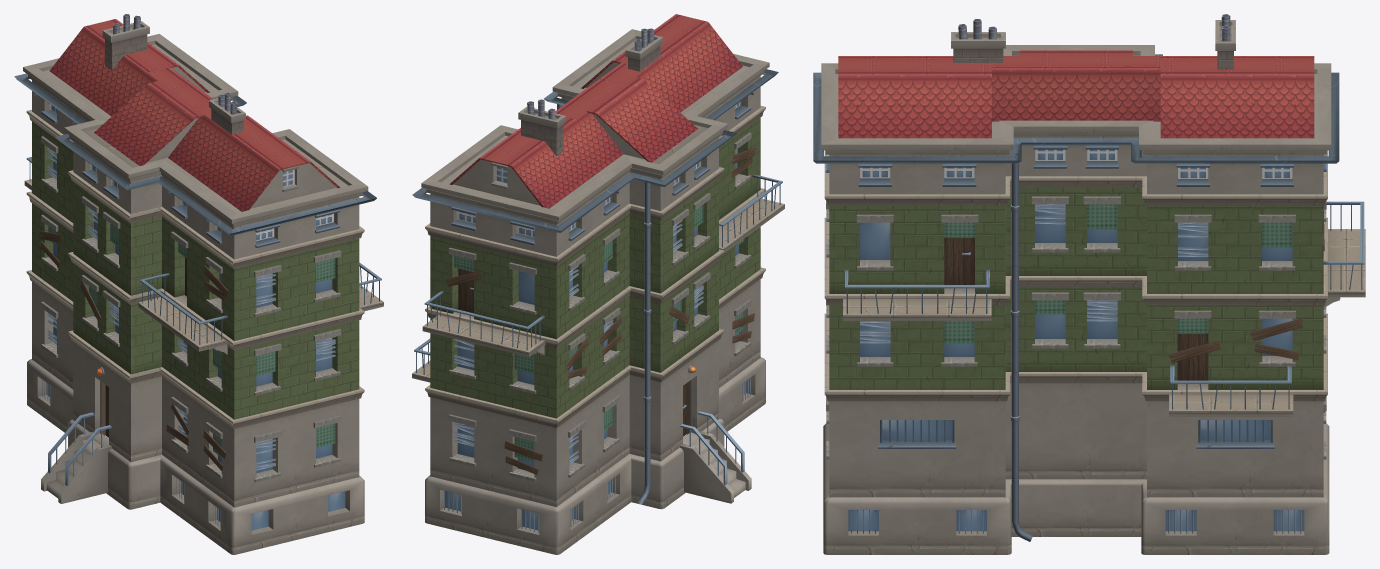
File: Building_01_5_LOD1.fbx
3 views of the same model, side by side, from view 1: azimuth 30°, elevation 25°; view 2: azimuth 150°, elevation 25°; view 3: azimuth 270°, elevation 25° (orthographic). The views are drawn at different scales.
Visible parts, largest first — view 1: polySurface4857; view 2: polySurface4857; view 3: polySurface4857.
Boxes of the visible parts, bbox=[...] form: polySurface4857: bbox=[14, 14, 383, 554]; polySurface4857: bbox=[412, 14, 784, 554]; polySurface4857: bbox=[813, 14, 1365, 554].
Size of the model in its own units: 949 by 1547 by 1565.
